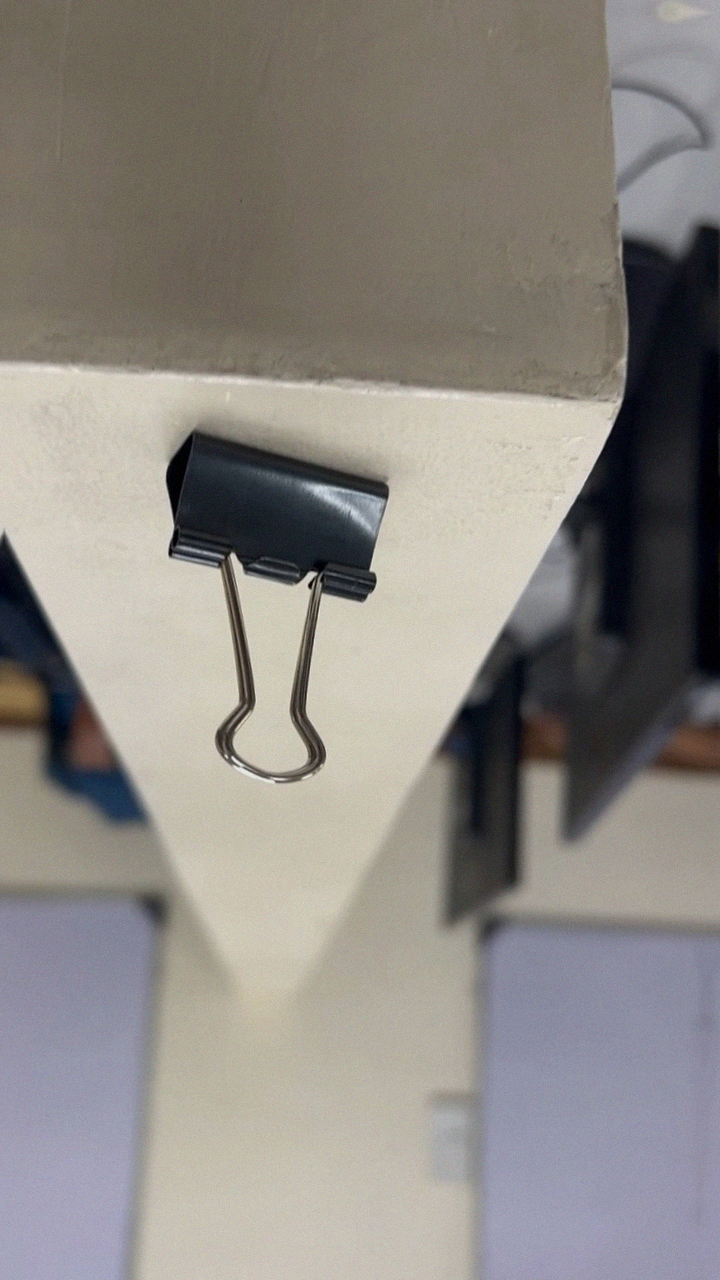kep_giay: (147, 433, 394, 791)
